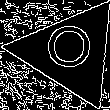O_S: (44, 25, 96, 79)
